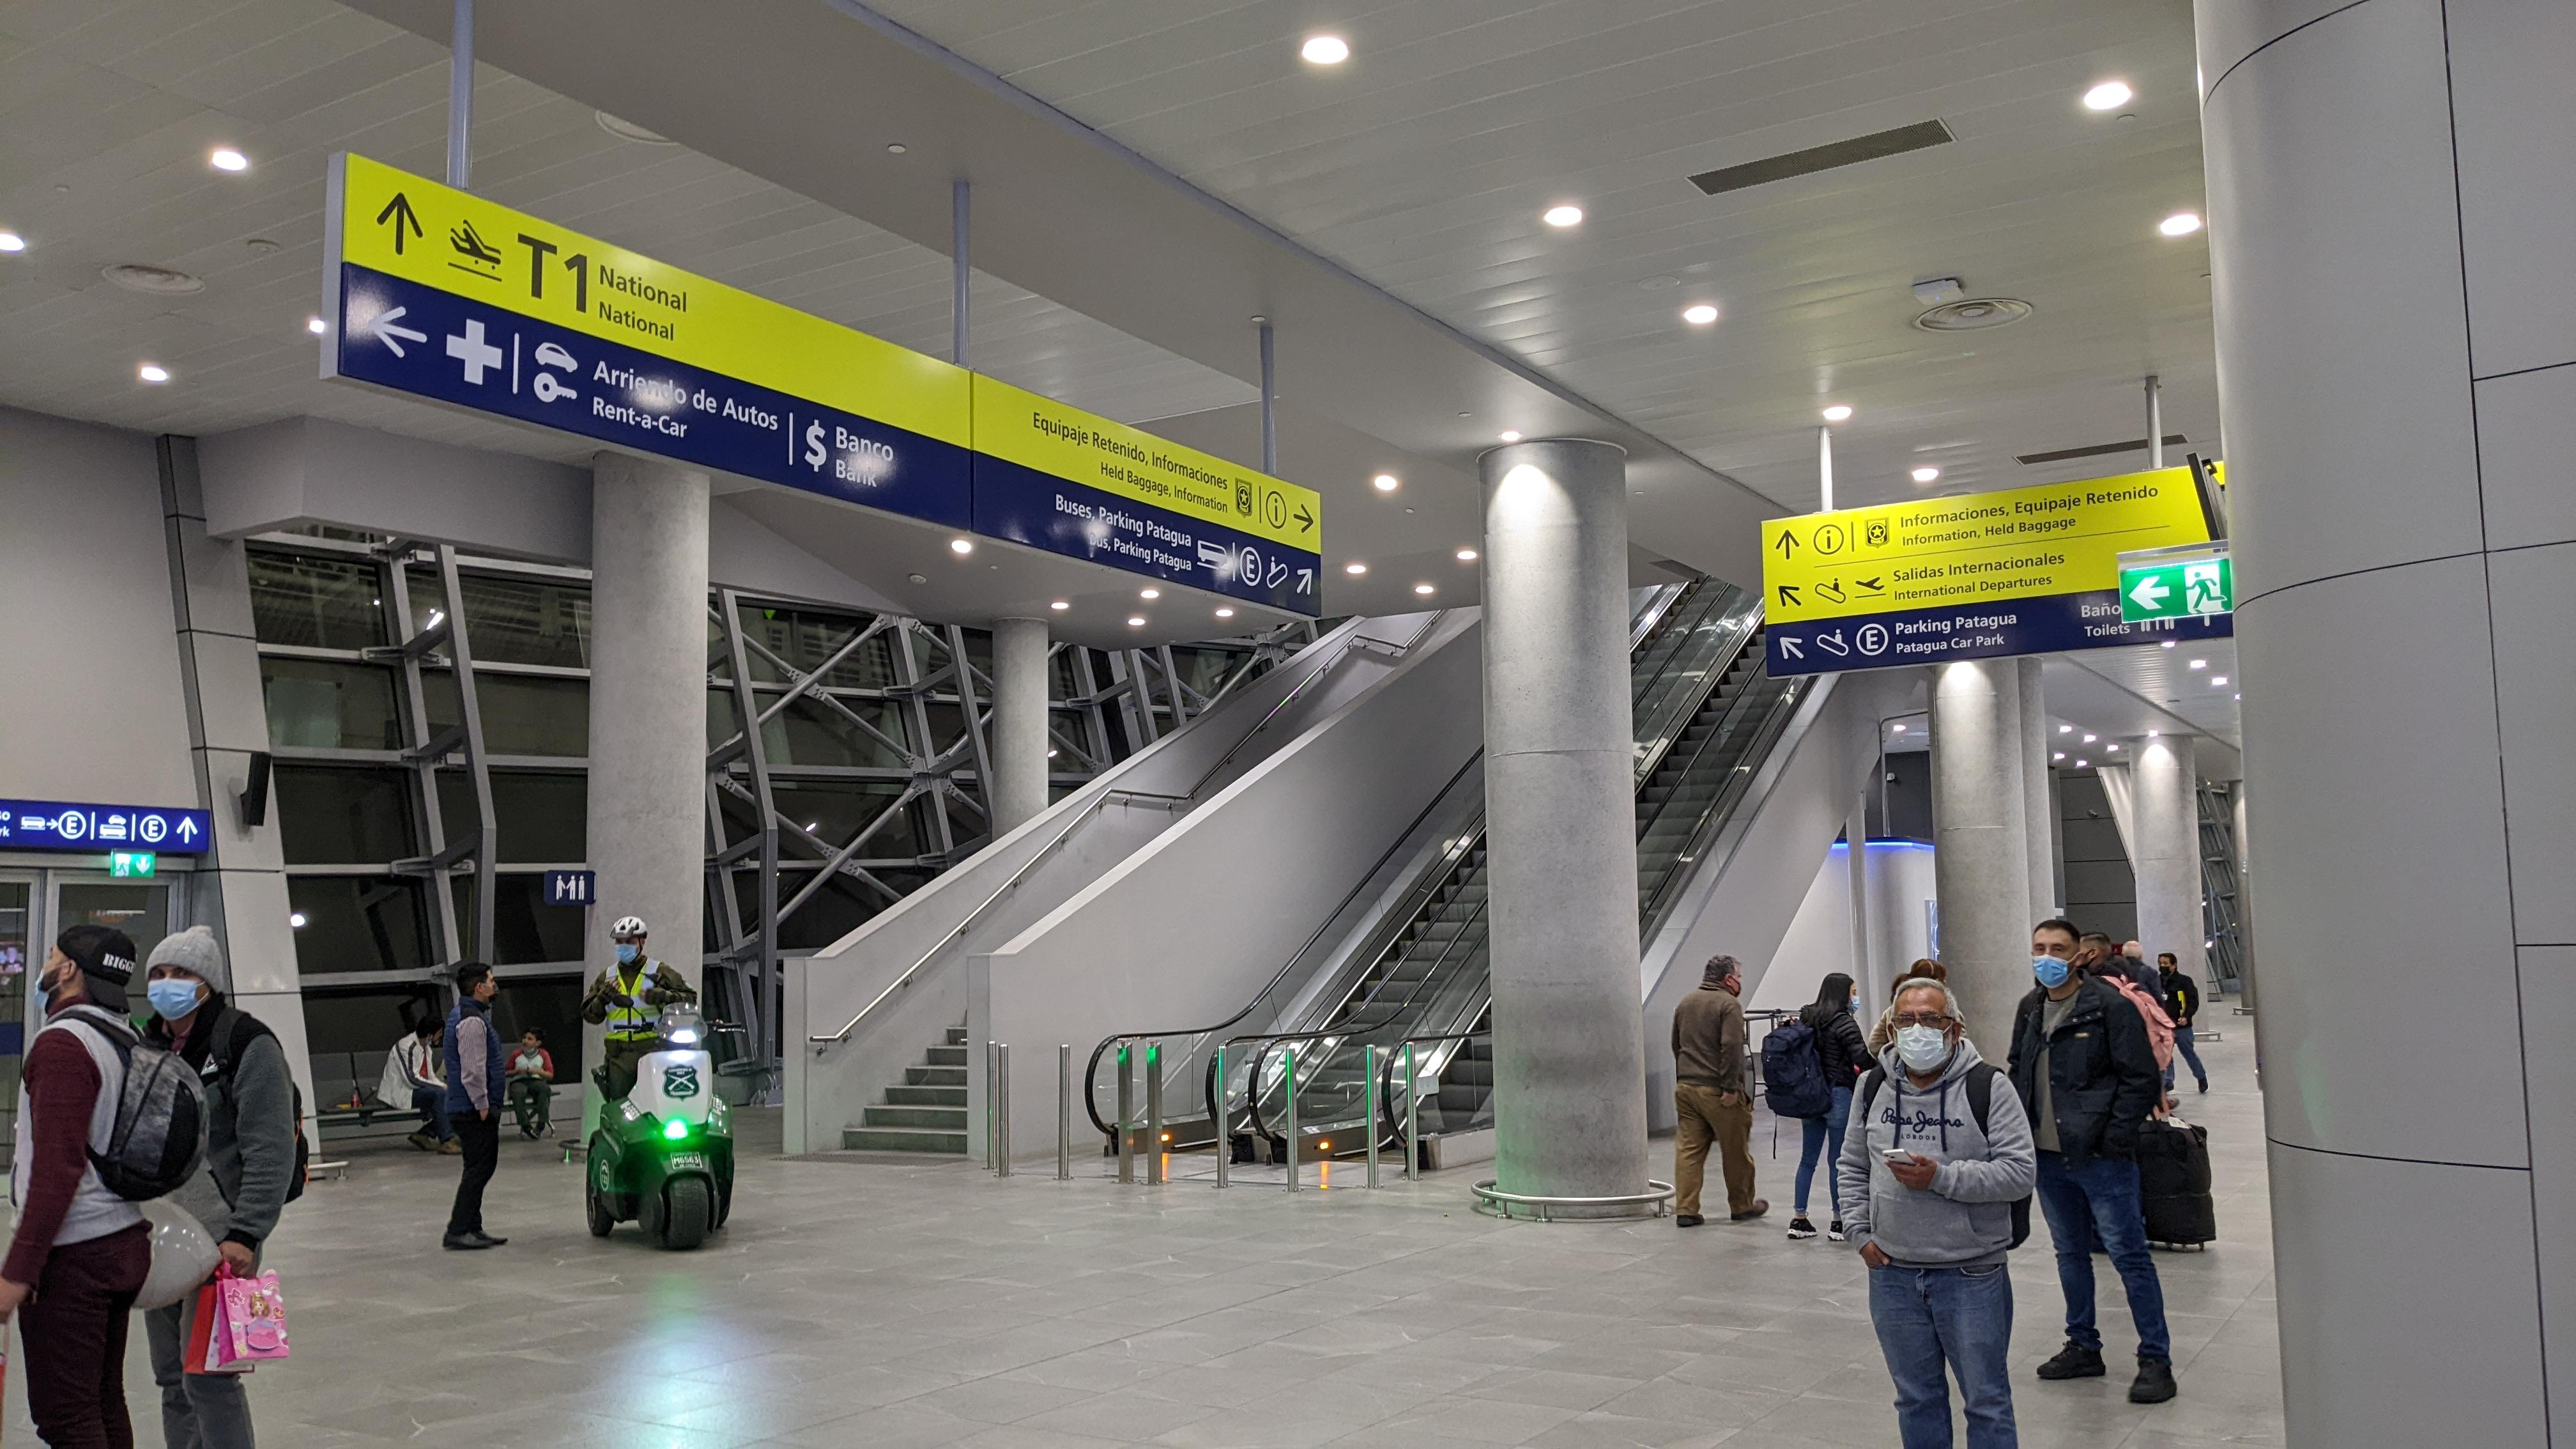airplane symbol: (444, 216, 508, 274), (1852, 575, 1888, 593)
emergency down arrow: (134, 856, 152, 876)
emergency exit: (2183, 563, 2227, 616), (115, 853, 129, 876)
emergency left arrow: (2128, 575, 2174, 612)
right arrow: (46, 817, 58, 830)
thin left arrow: (364, 299, 430, 364)
thin right arrow: (1290, 499, 1315, 540)
thin up arrow: (368, 186, 437, 260), (1773, 525, 1801, 563), (175, 814, 198, 846)
